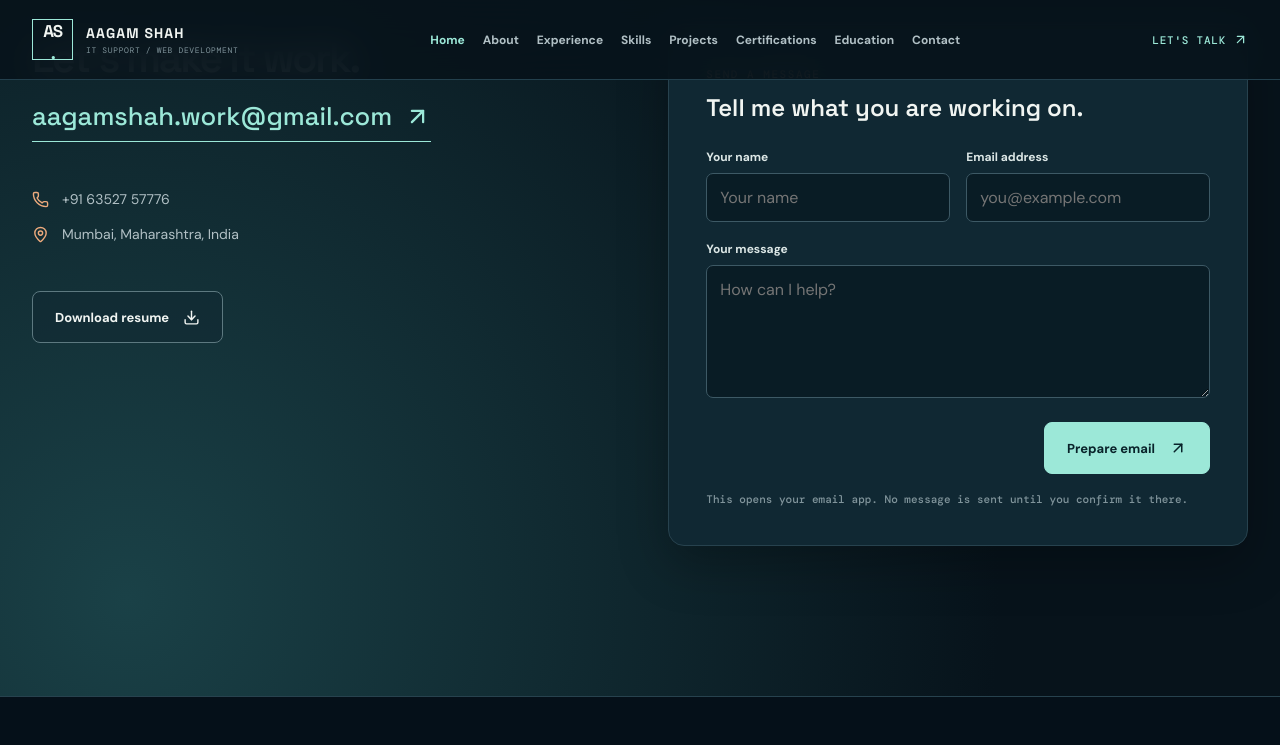
Test case: portfolio › validates the contact form with accessible field errors
The image size is (1280, 745).
(page scrolled)
Click the button "Prepare email": (1127, 448) [1044,422,1210,474]
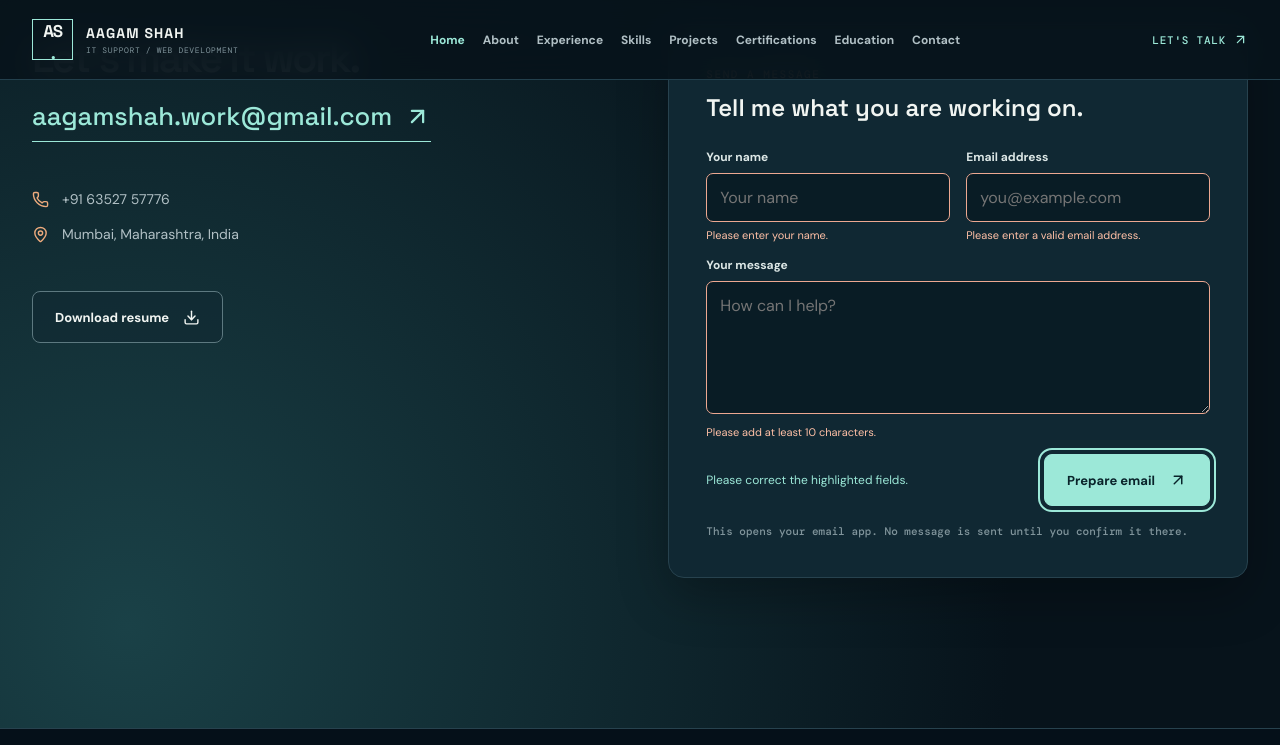
Check: the message shows "Please correct", box [706,472,908,488]
